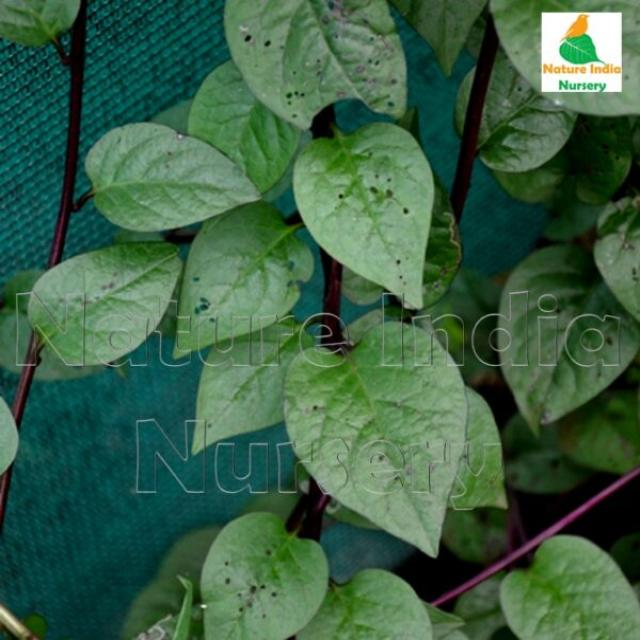Medicinal-Basale: (4, 0, 532, 308), (244, 340, 617, 640)
